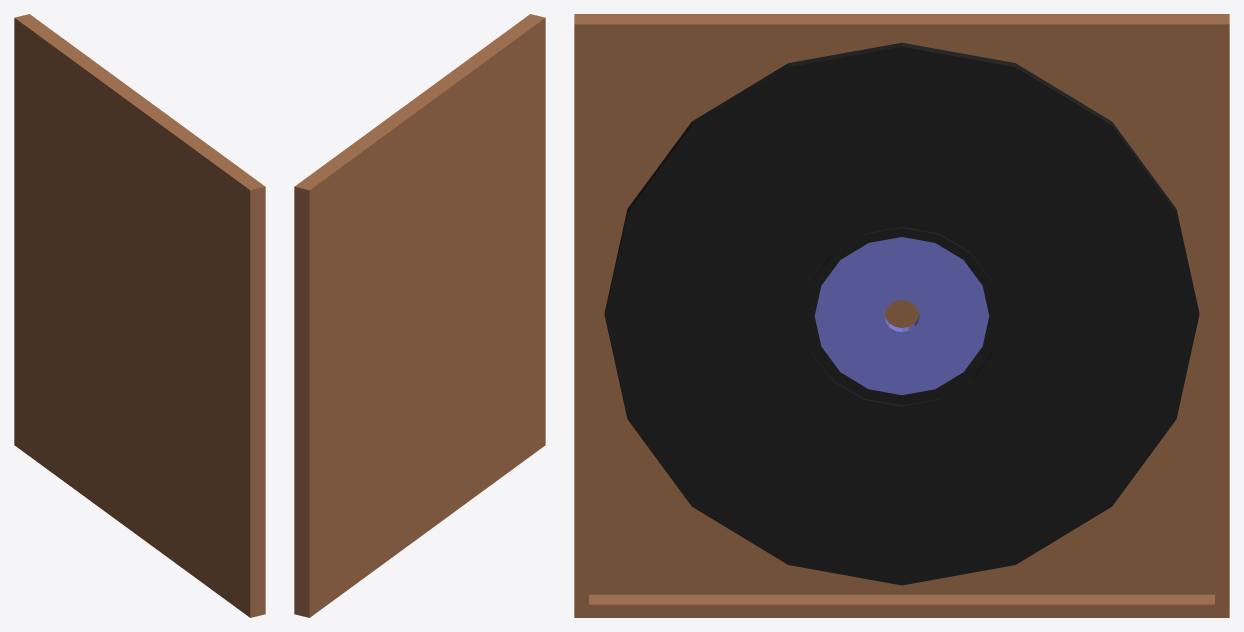
Rendered from record-blue.glb.
The picture shows the model from 3 angles, left to right: view 1: azimuth 30°, elevation 25°; view 2: azimuth 150°, elevation 25°; view 3: azimuth 270°, elevation 25°; orthographic projection. The views are drawn at different scales.
Visible parts, largest first — view 1: case; view 2: case; view 3: disc, case.
Part boxes in pixels (left/top/right/bottom): case: left=14, top=14, right=265, bottom=617; case: left=294, top=14, right=545, bottom=617; disc: left=604, top=42, right=1199, bottom=585; case: left=574, top=14, right=1229, bottom=617.
Bounding box in the file's own units: 0.1489 × 4.01 × 4.01.
